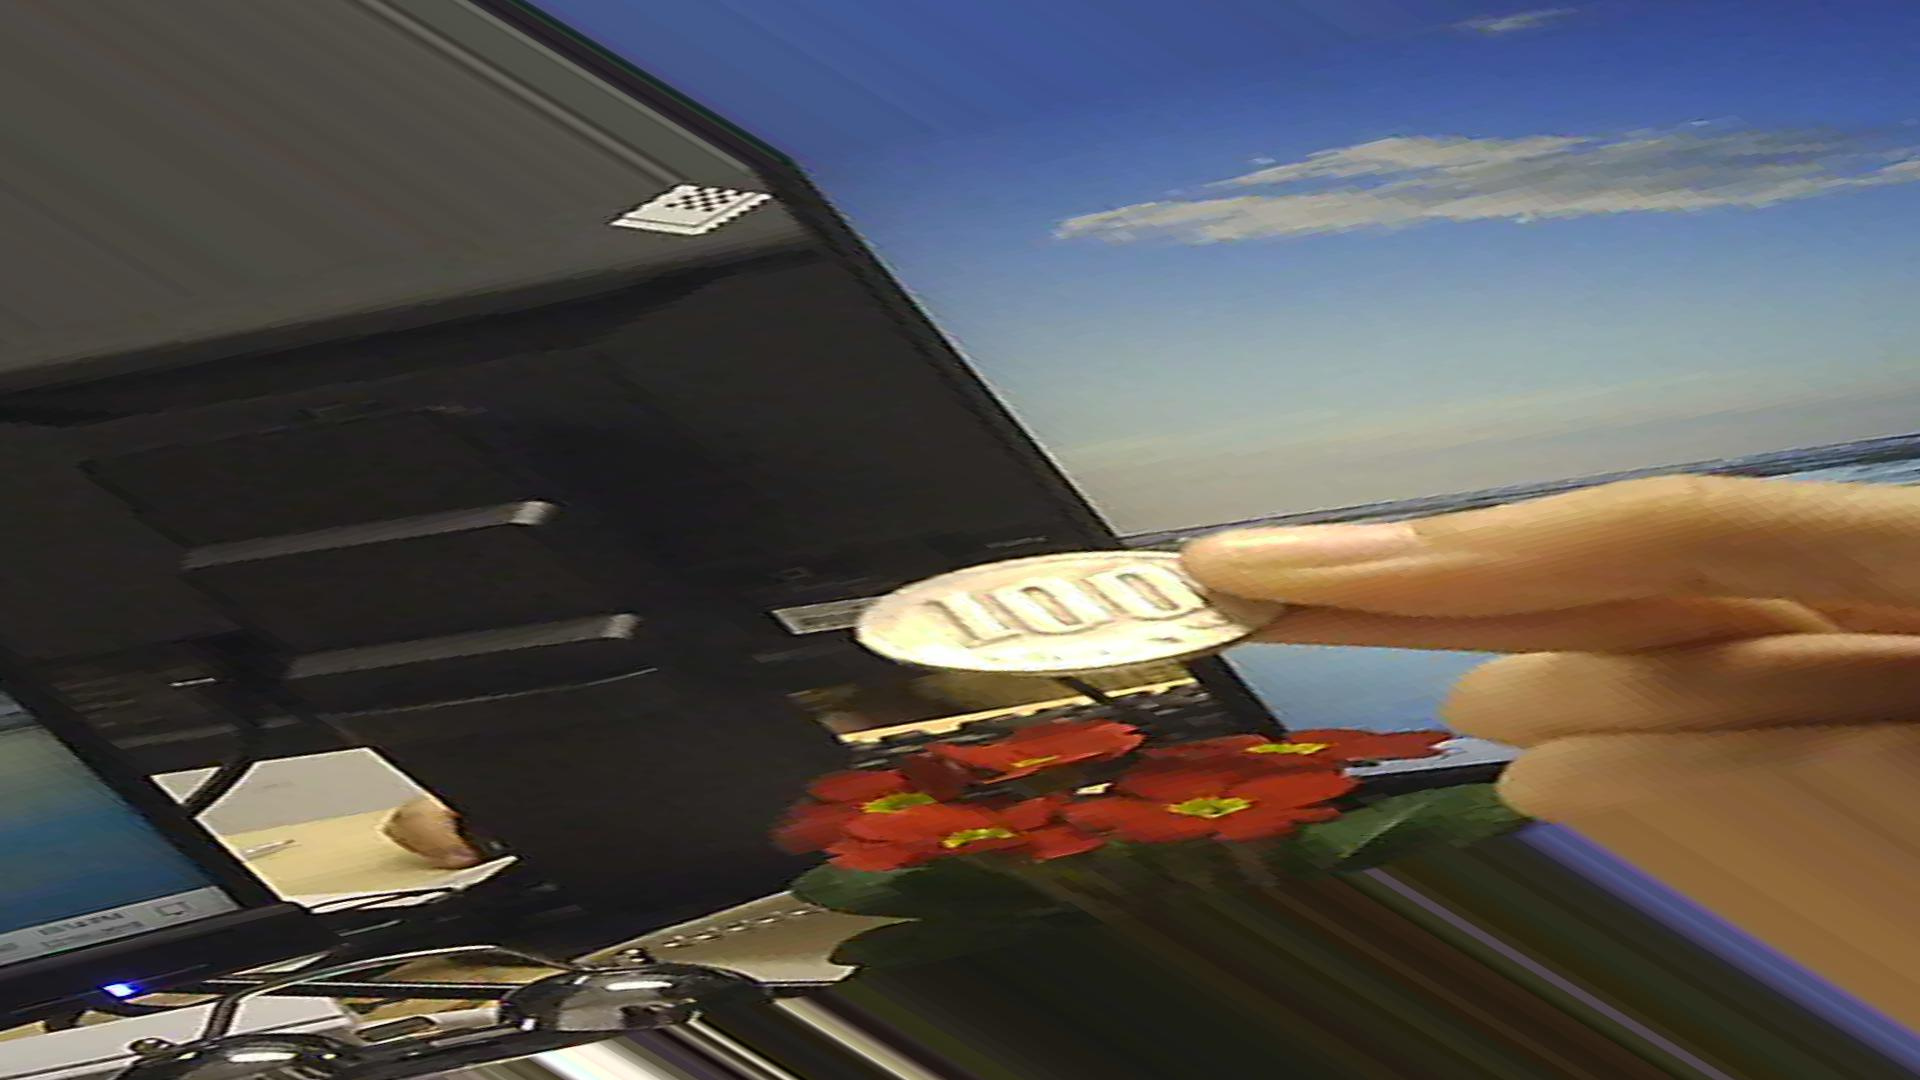100 Yen: (855, 549, 1300, 679)
